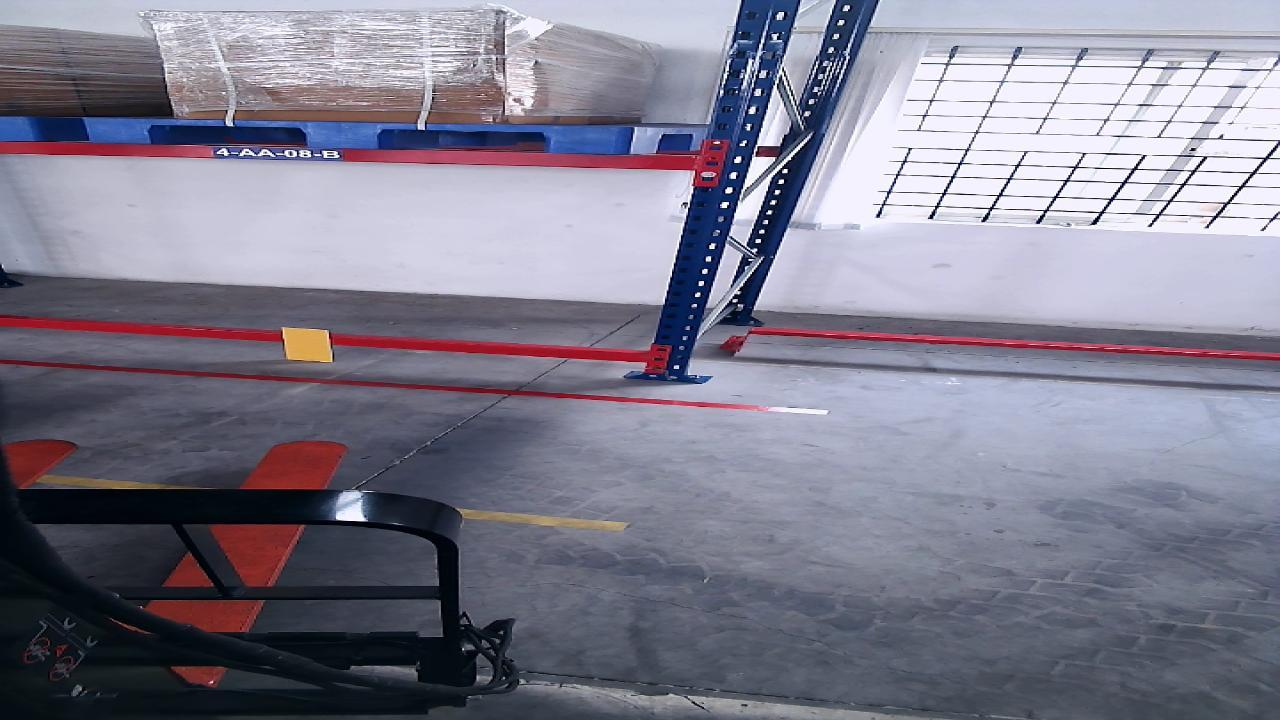h_rack: (0, 317, 641, 363), (0, 141, 693, 170)
orange_strip: (281, 328, 334, 362)
red_line: (1, 358, 827, 415)
small_pallet: (81, 118, 630, 154)
yellow_line: (39, 472, 631, 532)
